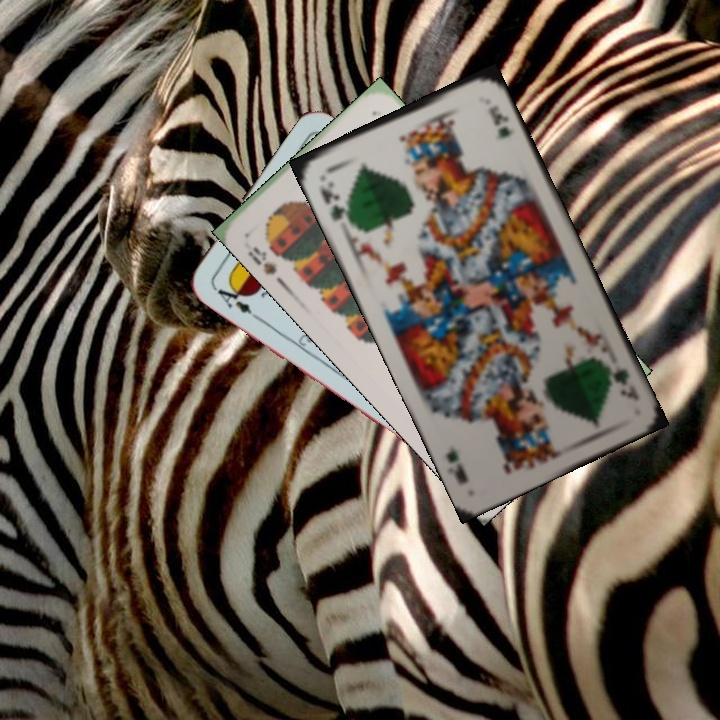EA: (209, 278, 255, 317)
GK: (315, 176, 354, 226), (601, 360, 642, 404)
S8: (243, 242, 280, 278)
